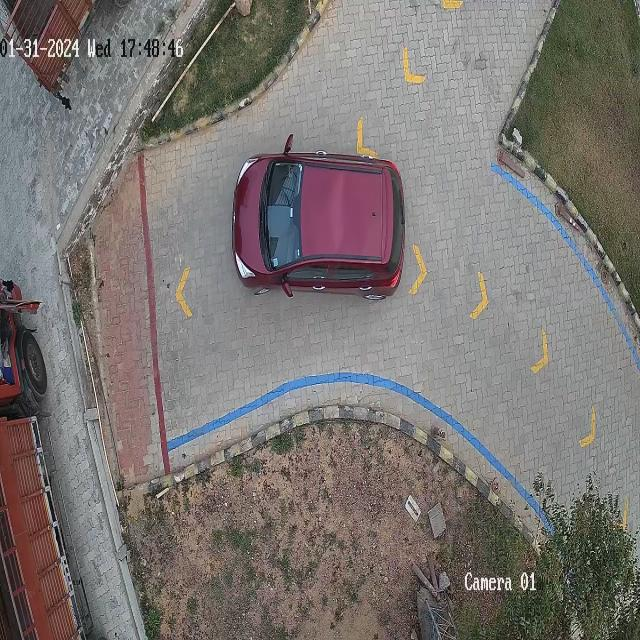car: (231, 140, 405, 300)
